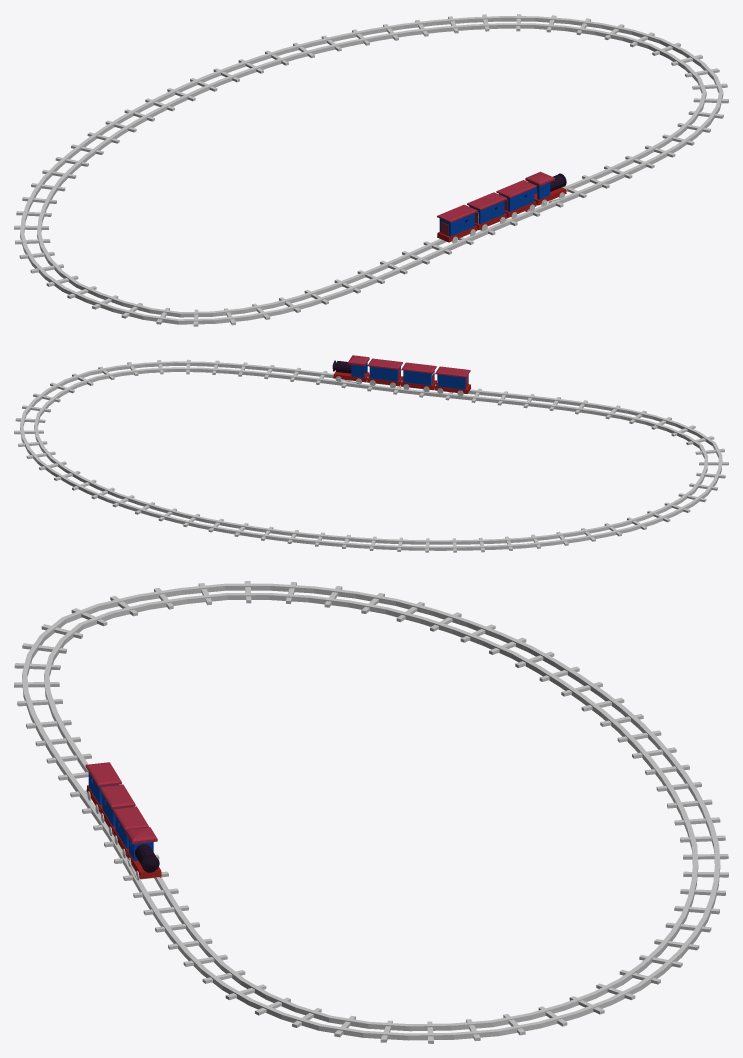
Rendered from train.obj.
The picture shows the model from 3 angles, top to bottom: view 1: azimuth 30°, elevation 25°; view 2: azimuth 150°, elevation 25°; view 3: azimuth 270°, elevation 25°; orthographic projection. The views are drawn at different scales.
Visible parts, largest first — view 1: Track_Cube.080; view 2: Track_Cube.080, Cube.018_Cube.021, Cube.011_Cube.014, Cube.006_Cube.008; view 3: Track_Cube.080.
Part boxes in pixels (<box>): Track_Cube.080: <box>14,14,728,326</box>; Track_Cube.080: <box>14,359,728,552</box>; Cube.018_Cube.021: <box>437,374,468,389</box>; Cube.011_Cube.014: <box>403,370,434,385</box>; Cube.006_Cube.008: <box>369,366,400,381</box>; Track_Cube.080: <box>14,581,728,1043</box>.
Bounding box in the file's own units: 13.94 × 0.5557 × 9.16.
